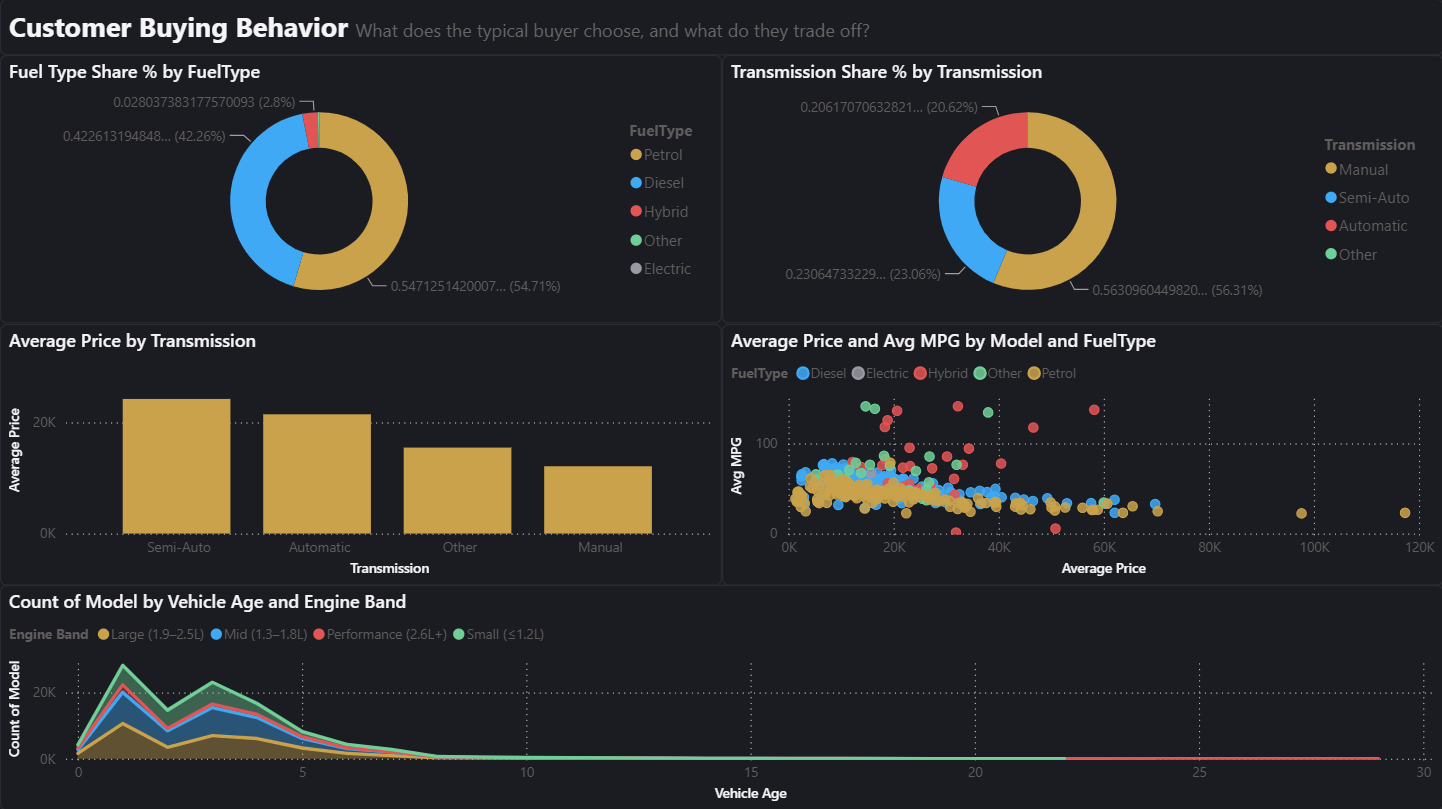

Layout of this report page (visuals, bound fields, positions):
{"tool":"powerbi","page":{"name":"Page 3","canvas":[1280,720],"ordinal":2},"visuals":[{"type":"textbox","box":[0,0,1280,49.6],"z":0},{"type":"donutChart","fields":{"Category":["Fact_Cars.fuelType"],"Y":["Measure_s.Fuel Type Share %"]},"box":[0,50,640,238.2],"z":1000},{"type":"donutChart","fields":{"Category":["Fact_Cars.transmission"],"Y":["Measure_s.Transmission Share %"]},"box":[640,50,640,238.2],"z":2000},{"type":"clusteredColumnChart","fields":{"Y":["Measure_s.Average Price"],"Category":["Fact_Cars.transmission"]},"box":[0,288.2,640,231.8],"z":3000},{"type":"scatterChart","fields":{"Series":["Fact_Cars.fuelType"],"Category":["Fact_Cars.model"],"X":["Measure_s.Average Price"],"Y":["Measure_s.Avg MPG"]},"box":[640,288.2,640,231.8],"z":4000},{"type":"stackedAreaChart","fields":{"Category":["Fact_Cars.Vehicle Age"],"Series":["Fact_Cars.Engine Band"],"Y":["CountNonNull(Fact_Cars.model)"]},"box":[0,520,1280,200],"z":5000}]}

Visuals, with their boxes in screenshot pixels (x1, y1, x2, y2), scaled from the page's 1280x720 canvas onto the 1442x809 screenshot:
textbox: <bbox>0, 0, 1441, 56</bbox>
donutChart - Fact_Cars.fuelType x Measure_s.Fuel Type Share %: <bbox>0, 56, 721, 324</bbox>
donutChart - Fact_Cars.transmission x Measure_s.Transmission Share %: <bbox>721, 56, 1441, 324</bbox>
clusteredColumnChart - Measure_s.Average Price x Fact_Cars.transmission: <bbox>0, 324, 721, 584</bbox>
scatterChart - Fact_Cars.fuelType x Fact_Cars.model: <bbox>721, 324, 1441, 584</bbox>
stackedAreaChart - Fact_Cars.Vehicle Age x Fact_Cars.Engine Band: <bbox>0, 584, 1441, 808</bbox>
